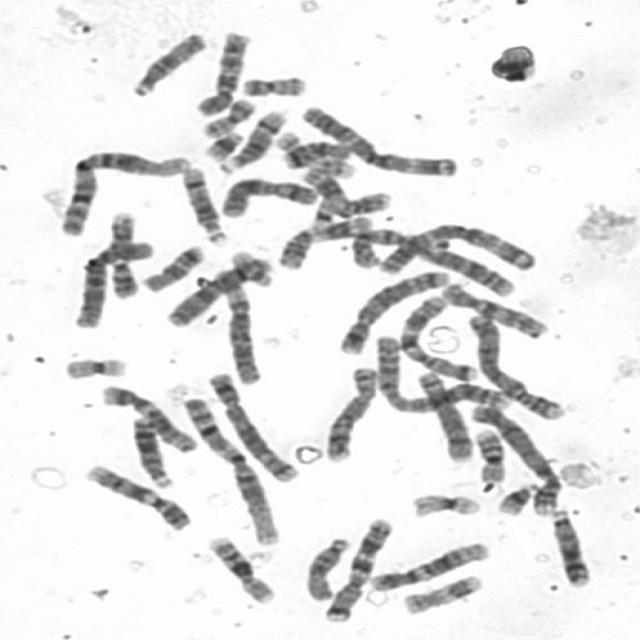A1: (175, 391, 283, 548), (54, 144, 196, 236)
A2: (350, 222, 520, 298), (367, 329, 511, 414)
A3: (294, 99, 461, 178), (366, 218, 540, 276)
B4: (462, 307, 568, 422), (466, 398, 564, 517)
B5: (202, 365, 303, 484), (331, 264, 452, 356)
C10: (435, 278, 551, 340), (191, 26, 255, 118)
C11: (272, 212, 374, 270), (298, 162, 392, 218)
C12: (95, 379, 200, 454), (364, 536, 494, 592)
C6: (67, 236, 157, 330), (206, 265, 265, 386)
C7: (318, 511, 397, 624), (395, 289, 483, 383)
C8: (319, 360, 382, 462), (410, 366, 475, 464)
C9: (80, 459, 194, 531), (104, 206, 142, 300)
D13: (545, 502, 595, 589), (125, 410, 176, 489)
D14: (214, 104, 290, 176), (176, 161, 232, 246)
D15: (124, 27, 208, 98), (300, 532, 353, 602)
E16: (201, 530, 278, 605), (468, 424, 508, 485)
E17: (396, 568, 486, 616), (308, 195, 348, 235)
E18: (138, 239, 208, 293), (277, 134, 354, 170)
F19: (406, 488, 484, 519), (58, 351, 131, 381)
F20: (197, 93, 259, 139), (236, 70, 310, 98)
G21: (490, 477, 540, 517), (200, 126, 246, 162)
G22: (224, 245, 276, 288), (303, 153, 359, 180)
X: (161, 250, 276, 329), (215, 173, 322, 219)
